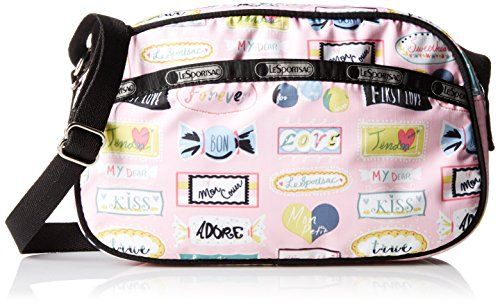nylon: (6, 1, 492, 265)
